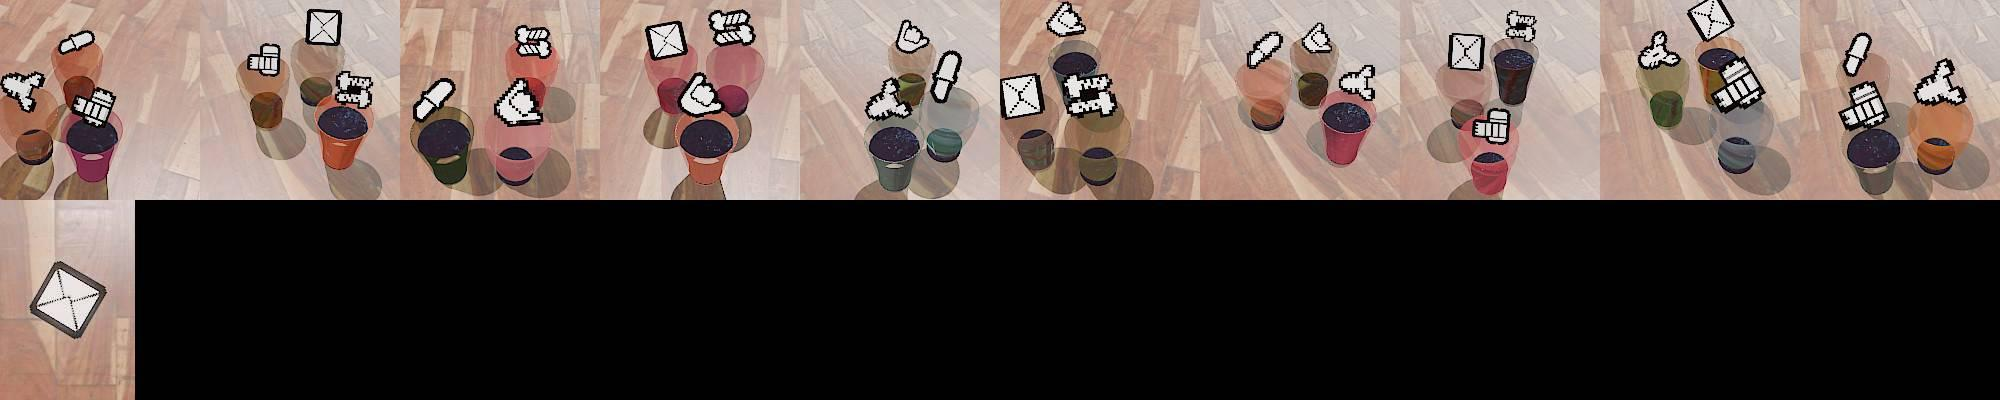icon: (27, 260, 108, 341), (1710, 57, 1768, 116), (1059, 70, 1119, 120), (1839, 80, 1890, 132), (492, 77, 545, 126), (1912, 58, 1965, 107), (864, 75, 916, 120), (677, 71, 727, 116), (412, 75, 456, 123), (1686, 0, 1734, 42), (708, 9, 759, 48), (1000, 73, 1043, 119), (1, 70, 46, 112), (71, 85, 118, 125), (930, 49, 962, 104), (646, 20, 688, 61), (1638, 29, 1680, 70), (334, 70, 374, 110), (1246, 30, 1285, 70), (1470, 105, 1511, 142), (1045, 1, 1086, 38), (1337, 64, 1376, 102), (305, 8, 342, 47), (1449, 32, 1485, 72), (514, 24, 553, 60), (895, 18, 930, 54), (1843, 33, 1871, 77), (247, 42, 282, 77), (1505, 9, 1538, 42), (1301, 21, 1334, 54), (58, 28, 96, 55)
